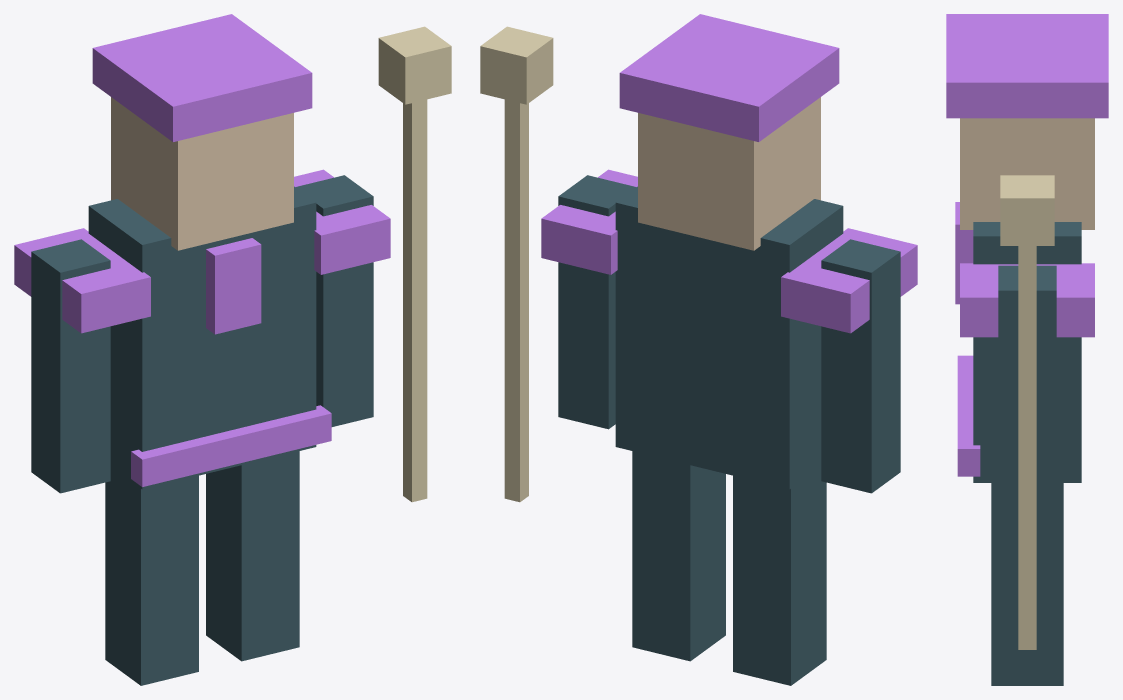
The model's file is 01_astra_trenchmark_pilgrim_near.glb.
The picture shows the model from 3 angles, left to right: view 1: azimuth 30°, elevation 25°; view 2: azimuth 150°, elevation 25°; view 3: azimuth 270°, elevation 25°; orthographic projection.
Parts seen in each view (by area): view 1: Astra Trenchmark, Pilgrim near; view 2: Astra Trenchmark, Pilgrim near; view 3: Astra Trenchmark, Pilgrim near.
Boxes of the visible parts, x1,y1,x2,y2 form: Astra Trenchmark, Pilgrim near: (14,14,451,685); Astra Trenchmark, Pilgrim near: (480,14,917,685); Astra Trenchmark, Pilgrim near: (946,14,1108,685).
Size of the model in its own units: 1.03 by 1.49 by 0.3654.
